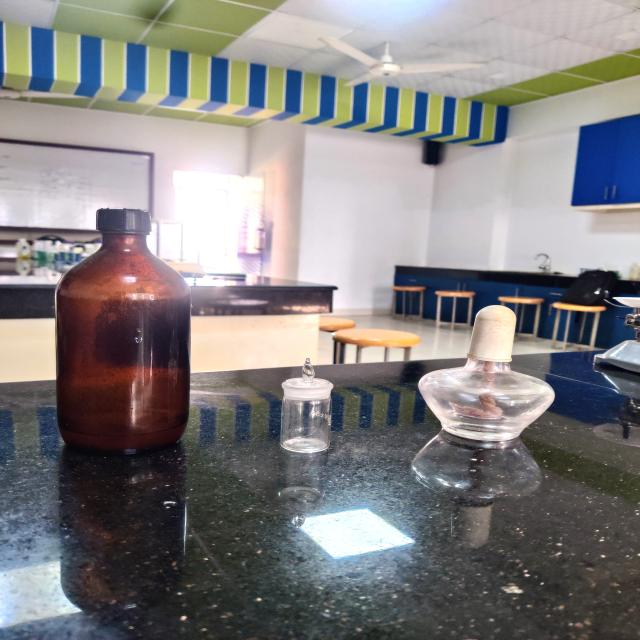Nessler_Reagent_Bottle: (38, 195, 222, 470)
Spirit_Lamp: (403, 299, 578, 464)
Weighing_Bottle: (271, 342, 352, 464)
